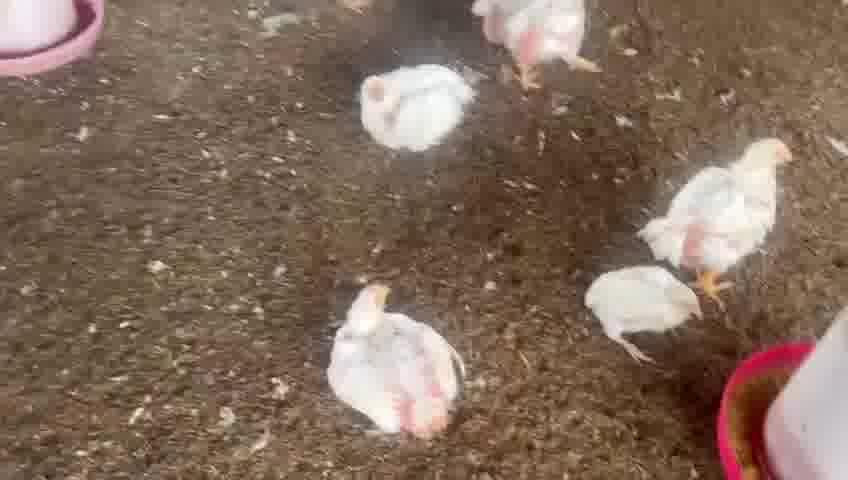AbNormal: (330, 283, 464, 437), (584, 265, 700, 366), (360, 66, 469, 150)
Normal: (661, 135, 793, 299), (468, 5, 604, 93)
